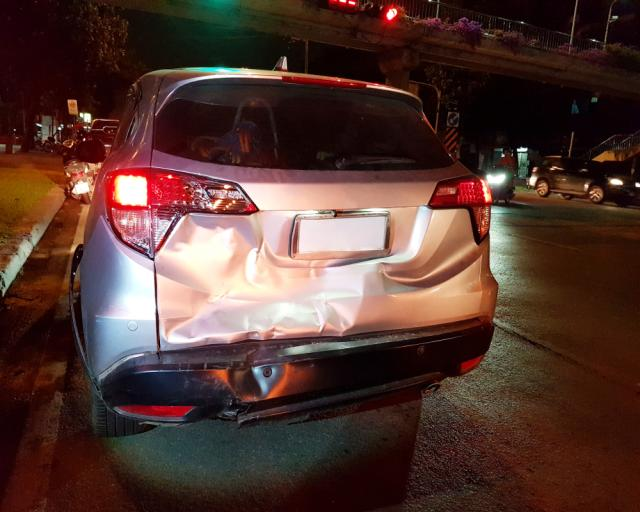dent: (165, 215, 367, 344), (214, 347, 281, 397)
lamp broken: (109, 167, 259, 256)
